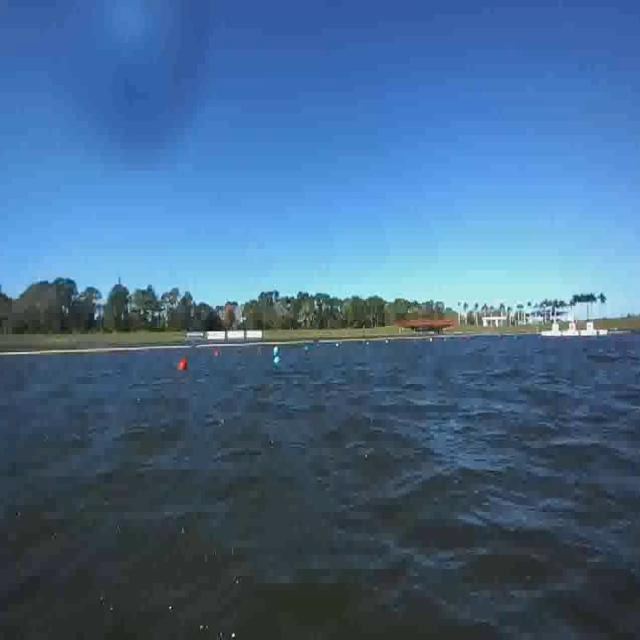green-buoy: (272, 353, 281, 372)
red-buoy: (182, 358, 190, 371)
